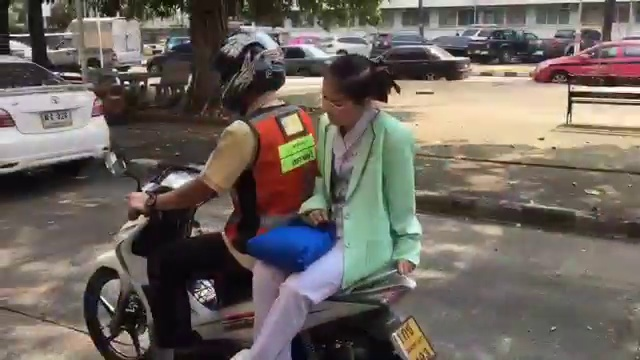helmet: (208, 30, 292, 104)
